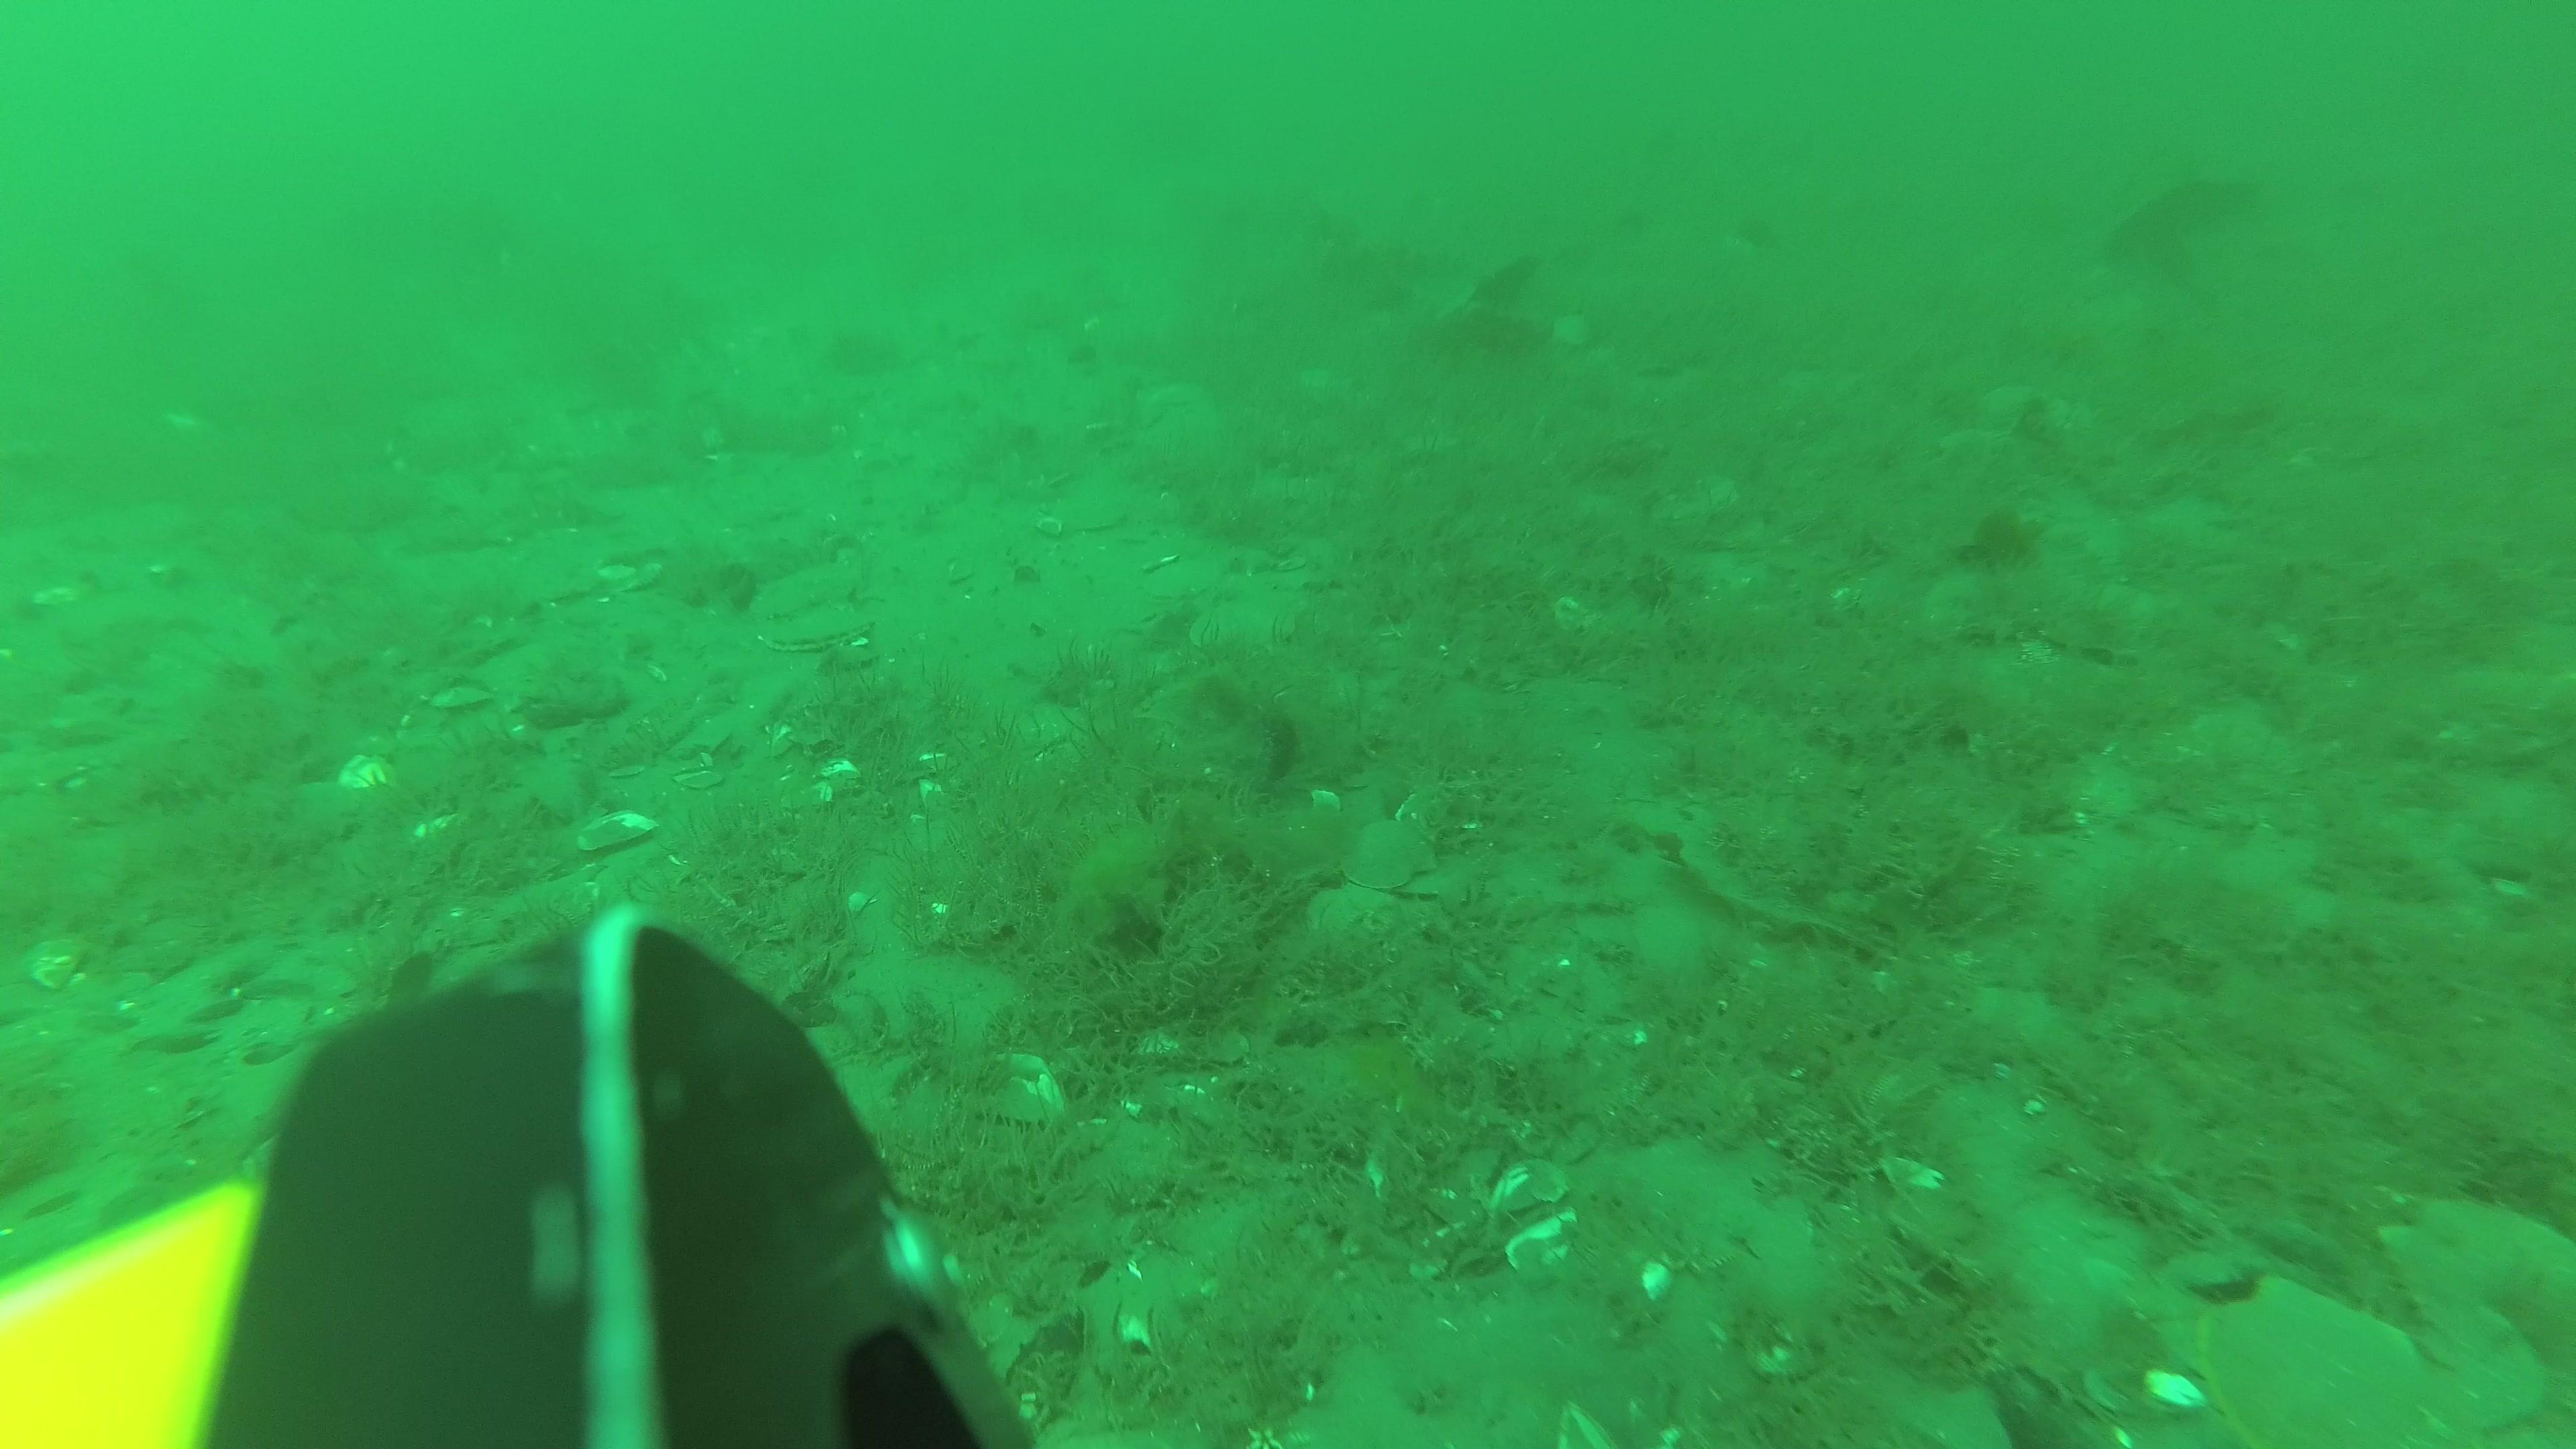scallop: (2189, 1276, 2427, 1449), (1341, 814, 1435, 890), (761, 598, 874, 656), (1191, 602, 1297, 662), (759, 563, 860, 617), (1044, 487, 1131, 534), (1311, 888, 1373, 943), (1154, 554, 1215, 596)
